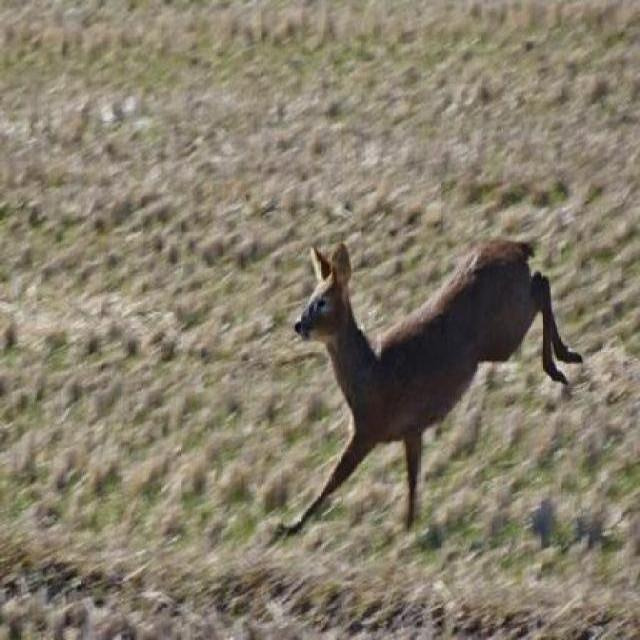deer: (264, 235, 588, 548)
